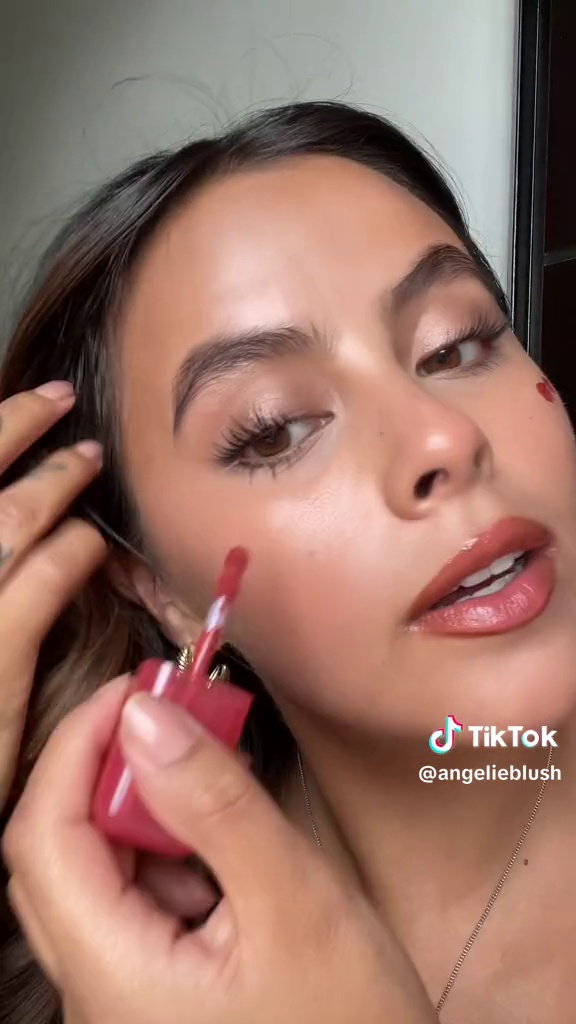train' :'yolo_data/train/images',: (88, 519, 276, 852)
